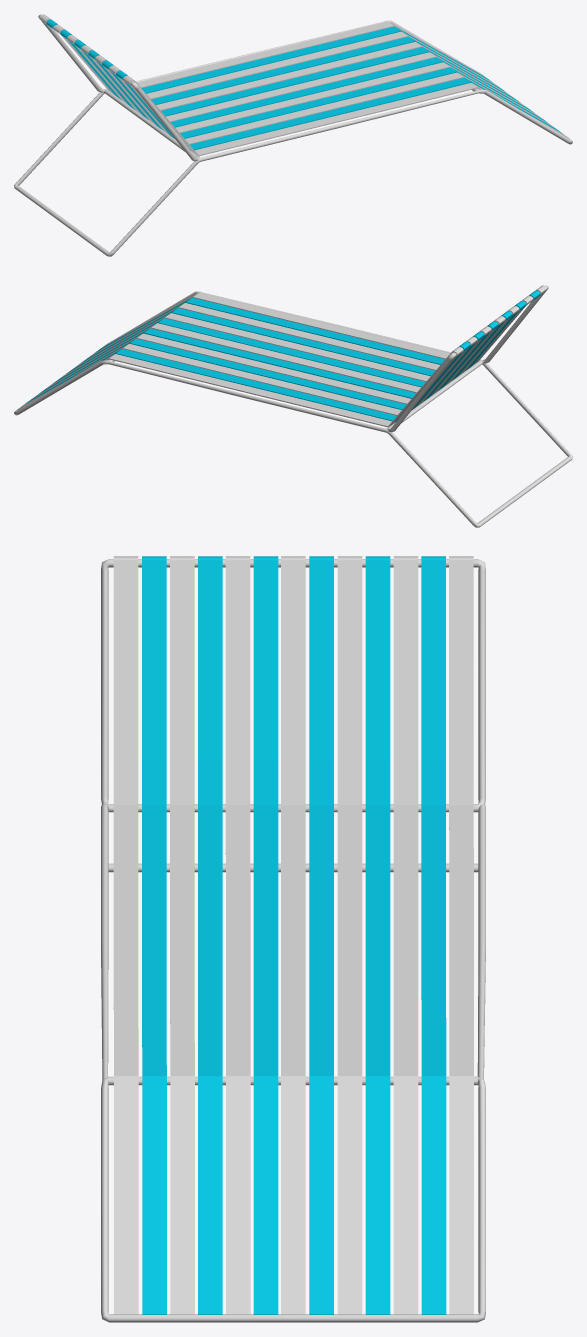
Rendered from BeachChair.fbx.
The picture shows the model from 3 angles, top to bottom: view 1: azimuth 30°, elevation 25°; view 2: azimuth 150°, elevation 25°; view 3: azimuth 270°, elevation 25°; orthographic projection. The views are drawn at different scales.
Visible parts, largest first — view 1: polySurface1; view 2: polySurface1; view 3: polySurface1.
Boxes of the visible parts, bbox=[...] form: polySurface1: bbox=[14, 14, 572, 256]; polySurface1: bbox=[14, 285, 572, 527]; polySurface1: bbox=[101, 556, 485, 1322].
Bounding box in the file's own units: 4.36 × 1.52 × 1.56.
